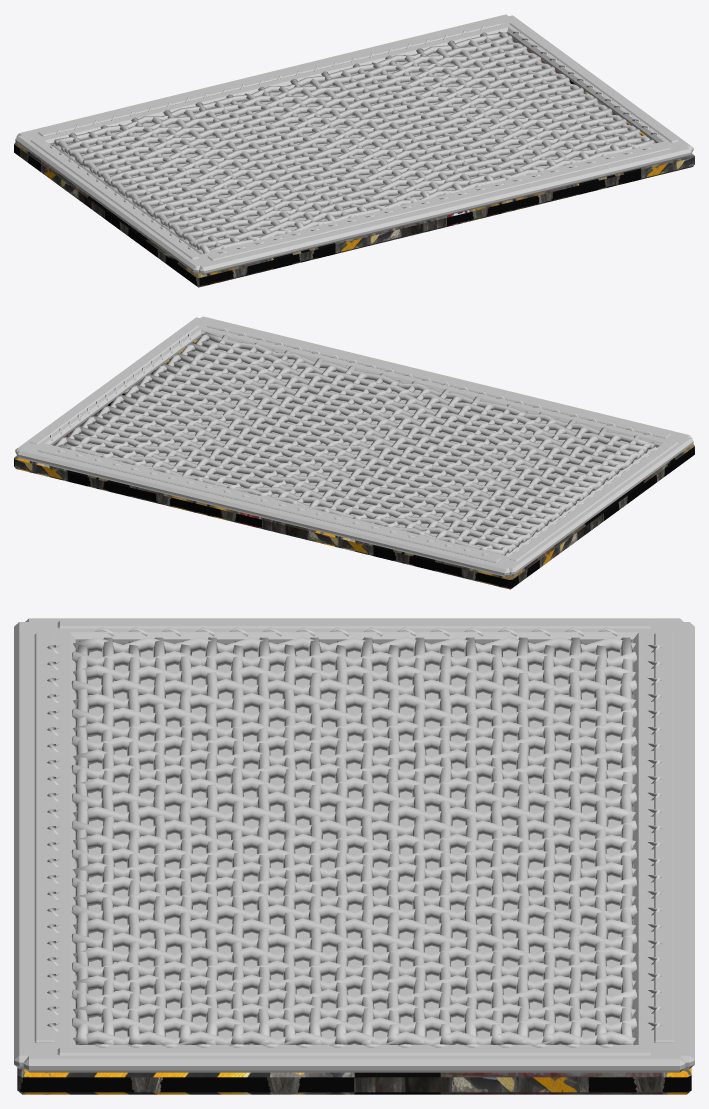
File: DH_Coconut_Coir_Mat.fbx
The picture shows the model from 3 angles, top to bottom: view 1: azimuth 30°, elevation 25°; view 2: azimuth 150°, elevation 25°; view 3: azimuth 270°, elevation 25°; orthographic projection. The views are drawn at different scales.
Parts seen in each view (by area): view 1: Model_Geometry; view 2: Model_Geometry; view 3: Model_Geometry.
Part boxes in pixels (x1=…): Model_Geometry: x1=14, y1=14, x2=694, y2=287; Model_Geometry: x1=14, y1=316, x2=694, y2=589; Model_Geometry: x1=14, y1=618, x2=694, y2=1094.
Size of the model in its own units: 0.82 by 0.035 by 0.53.
